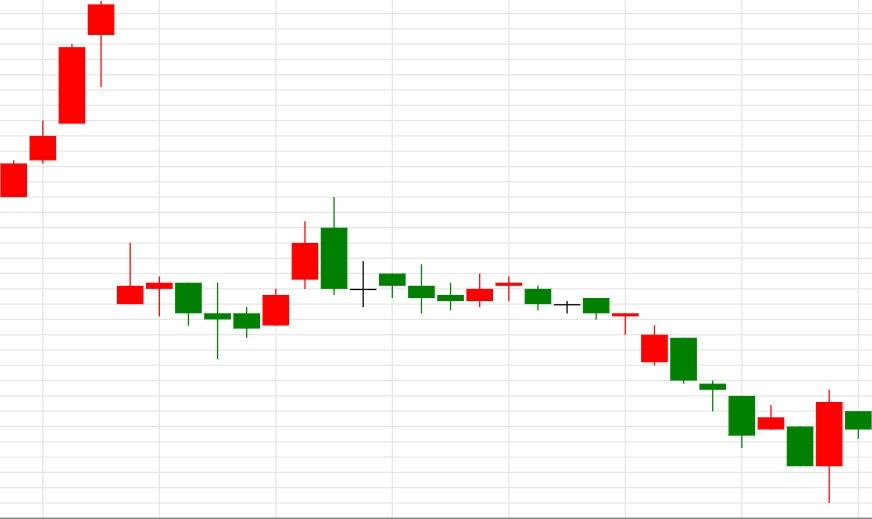bearish_engulfing_fall: (204, 196, 348, 359)
bullish_engulfing_rise: (495, 276, 844, 504)
